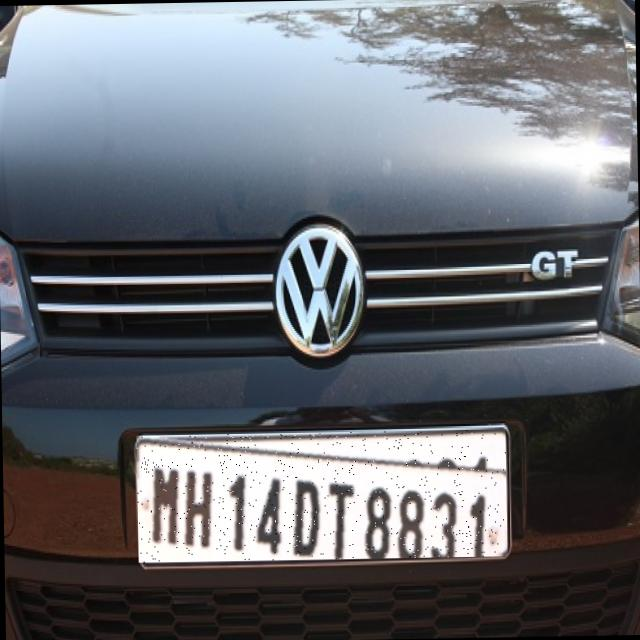Plate: (137, 430, 508, 563)
